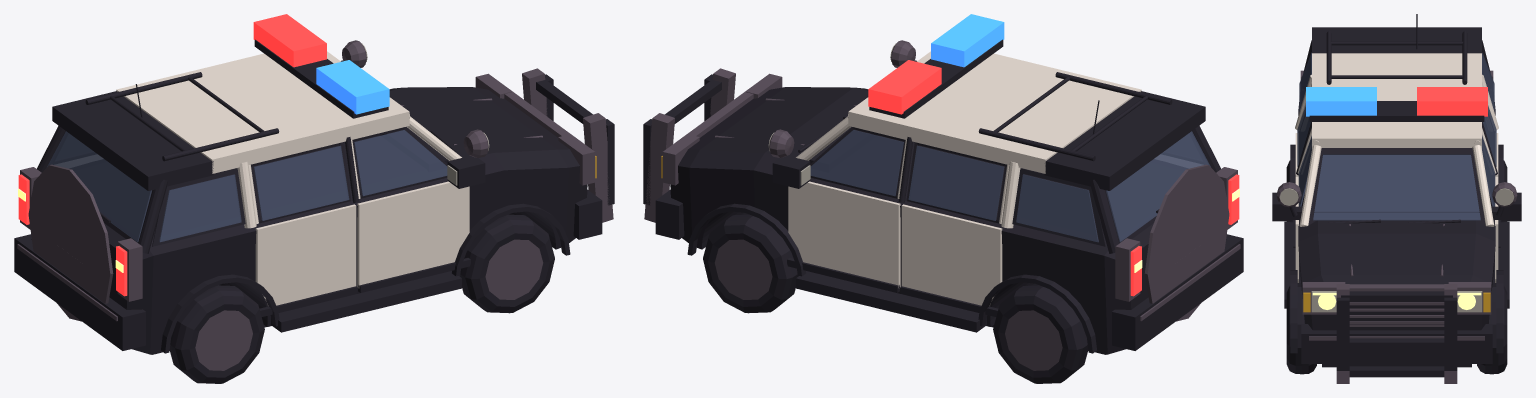
Rendered from veh.police-suv.lod1.glb.
3 renders of one model, left to right at view 1: azimuth 30°, elevation 25°; view 2: azimuth 150°, elevation 25°; view 3: azimuth 270°, elevation 25°, orthographic. The views are drawn at different scales.
Visible parts, largest first — view 1: body, wheelRR, wheelFR, sirenR, sirenL, lightsBrake, lightsFront; view 2: body, wheelRL, wheelFL, sirenL, sirenR, lightsBrake, lightsFront; view 3: body, lightsFront, sirenL, sirenR, wheelFL, wheelFR.
Part boxes in pixels (x1,y1,x2,y2): body: (14, 39, 614, 354); wheelRR: (169, 285, 264, 383); wheelFR: (460, 214, 554, 313); sirenR: (316, 60, 389, 114); sirenL: (253, 14, 326, 67); lightsBrake: (18, 167, 142, 301); lightsFront: (475, 73, 596, 185); body: (643, 39, 1243, 354); wheelRL: (993, 285, 1088, 383); wheelFL: (703, 214, 797, 313); sirenL: (868, 60, 941, 114); sirenR: (931, 14, 1004, 67); lightsBrake: (1115, 167, 1239, 301); lightsFront: (661, 73, 782, 185); body: (1272, 14, 1521, 383); lightsFront: (1302, 282, 1491, 314); sirenL: (1417, 87, 1487, 116); sirenR: (1306, 87, 1376, 116); wheelFL: (1477, 283, 1507, 374); wheelFR: (1286, 283, 1316, 374).
Size of the model in its own units: 5.26 by 2.48 by 2.5.
